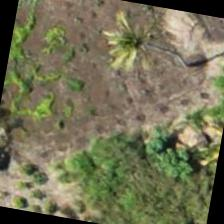Kelapa_Sawit: (72, 0, 176, 93)
